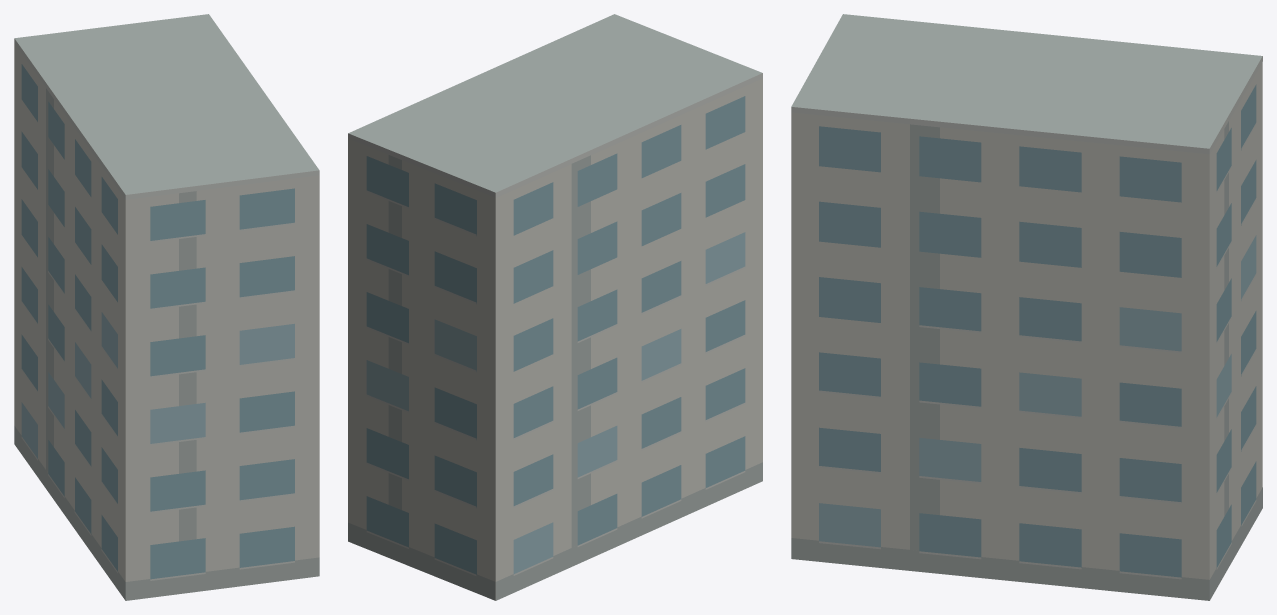
Rendered from survey-upis-32871799.glb.
3 views of the same model, side by side, from view 1: azimuth 30°, elevation 25°; view 2: azimuth 150°, elevation 25°; view 3: azimuth 270°, elevation 25° (orthographic). The views are drawn at different scales.
Visible parts, largest first — view 1: survey-upis-32871799.tmp; view 2: survey-upis-32871799.tmp; view 3: survey-upis-32871799.tmp.
Part boxes in pixels (x1,y1,x2,y2): survey-upis-32871799.tmp: [14, 14, 319, 600]; survey-upis-32871799.tmp: [348, 14, 762, 600]; survey-upis-32871799.tmp: [791, 14, 1262, 600].
Size of the model in its own units: 12.41 by 19.4 by 18.34.
